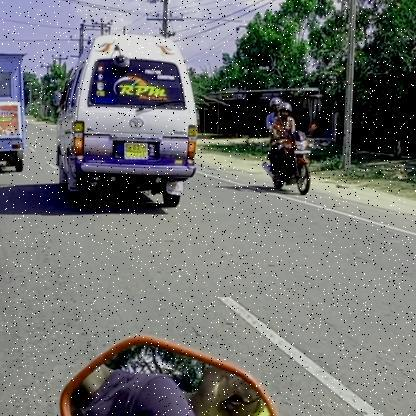motorcycle: (258, 129, 314, 200)
